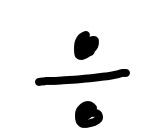div: (36, 30, 129, 125)
